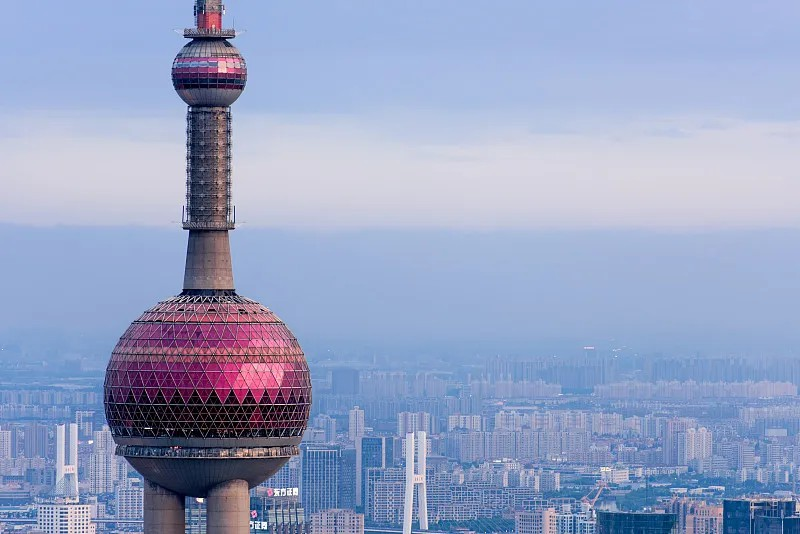Oriental: (103, 1, 313, 534)
